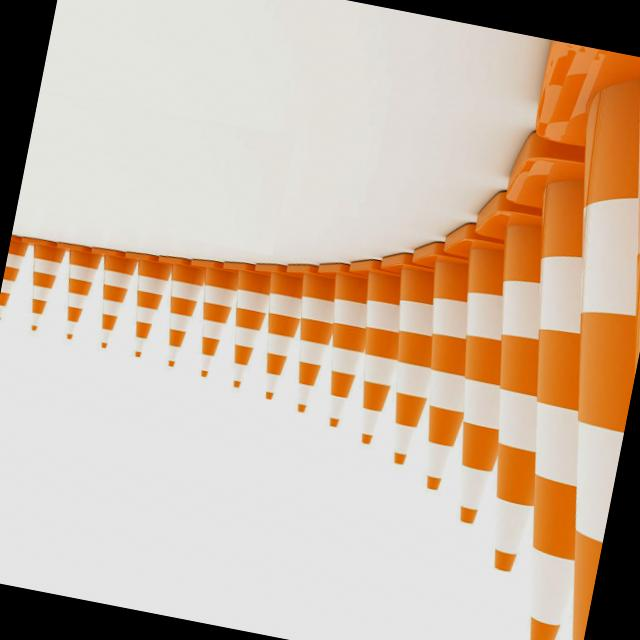cone: (216, 264, 278, 398), (250, 273, 310, 407), (182, 266, 245, 390), (152, 256, 212, 380), (11, 228, 67, 338), (49, 240, 105, 350), (85, 244, 138, 360), (119, 258, 172, 364), (0, 217, 30, 337)
